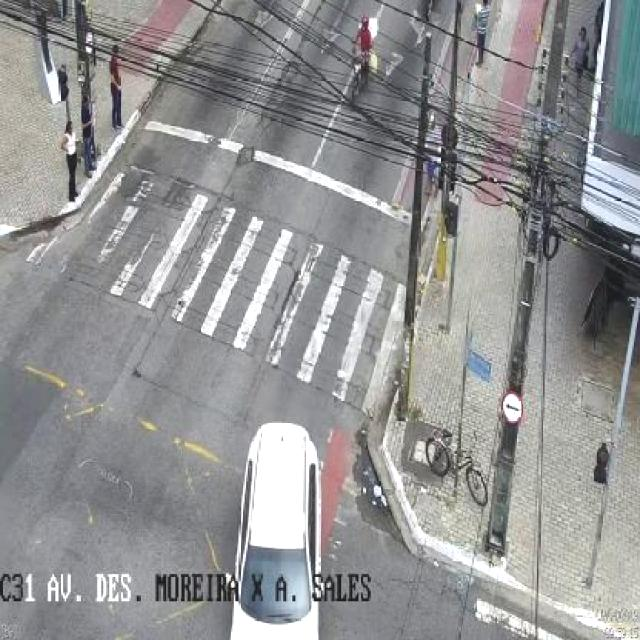Cycle: (225, 411, 338, 639), (314, 8, 396, 112)
